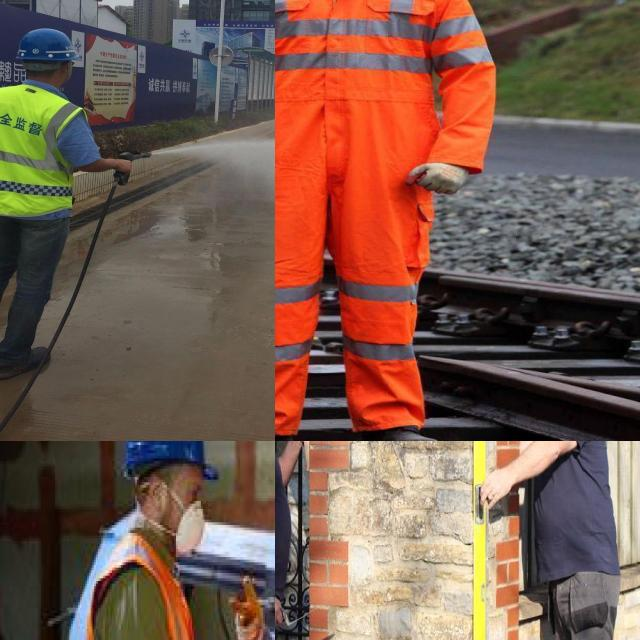face_mask: (158, 461, 210, 557)
hand_glove: (404, 160, 478, 206), (229, 570, 266, 640)
hand_noglove: (111, 150, 138, 184)
head_helmet: (119, 441, 224, 485), (7, 27, 83, 63)
person: (275, 0, 494, 441), (0, 25, 80, 365), (80, 441, 215, 640)
shoes: (0, 335, 60, 388)
vest: (275, 0, 494, 111), (85, 546, 207, 640), (0, 88, 85, 219)
